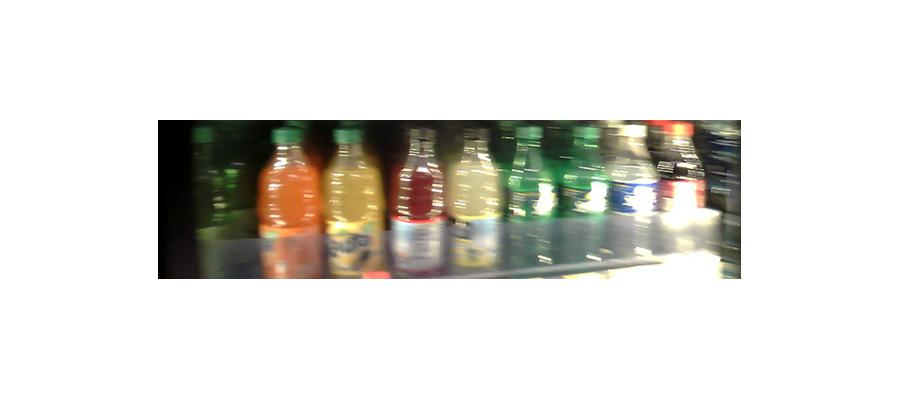bottle: (260, 123, 322, 281), (323, 121, 384, 279), (388, 126, 446, 274), (199, 130, 257, 274), (511, 127, 569, 268), (659, 118, 712, 263), (451, 124, 502, 273), (605, 124, 656, 257)
